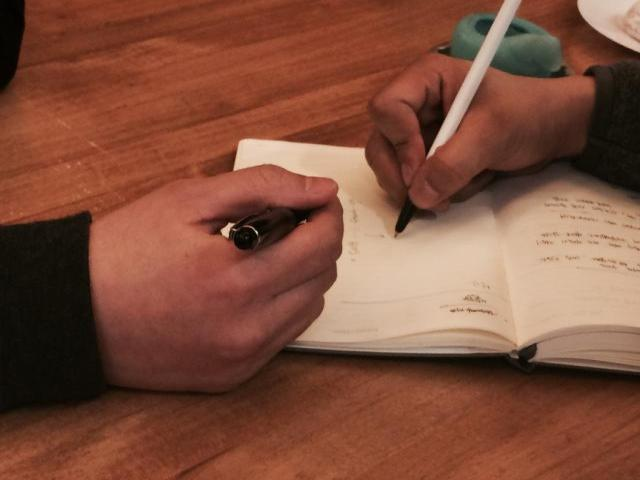PEN: (383, 0, 514, 253), (221, 201, 313, 262)
